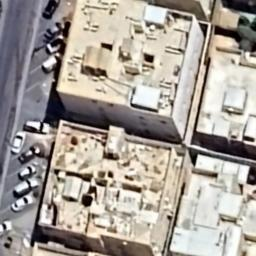SUV: (23, 117, 52, 135), (39, 53, 62, 75), (44, 35, 66, 54), (14, 165, 38, 181)
sedan: (9, 196, 35, 214), (18, 145, 41, 165), (42, 22, 64, 42), (40, 0, 61, 20), (11, 130, 25, 154), (0, 218, 11, 240)
van: (11, 178, 39, 198)
